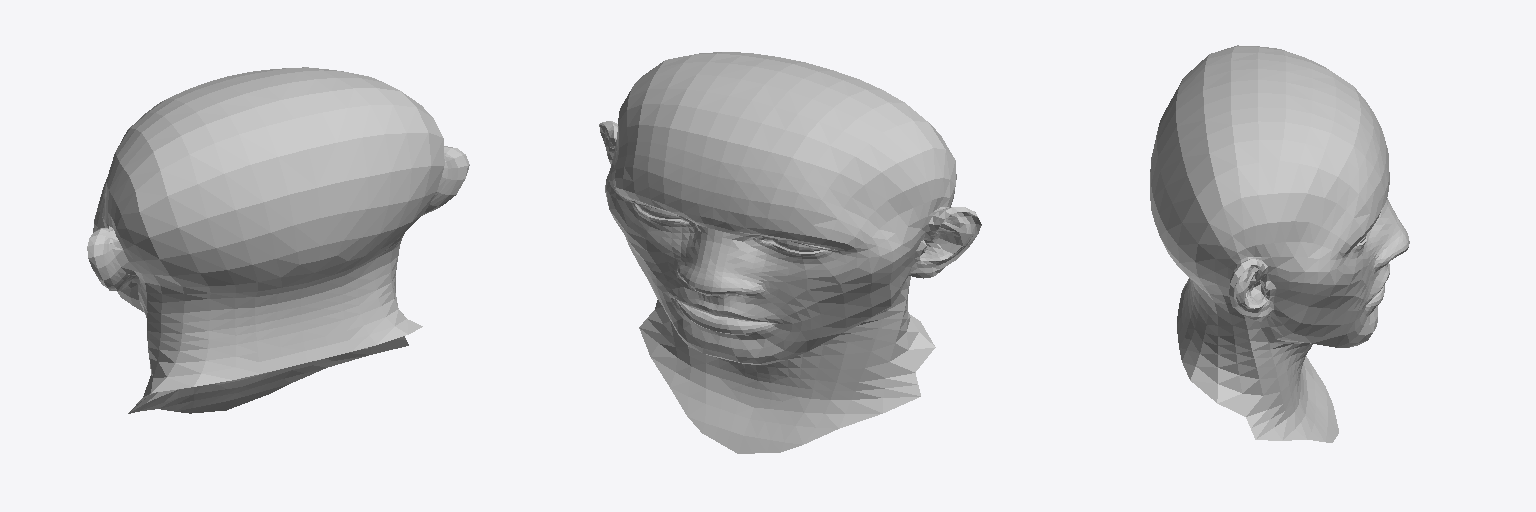
Rendered from xScale2.obj.
3 renders of one model, left to right at view 1: azimuth 30°, elevation 25°; view 2: azimuth 150°, elevation 25°; view 3: azimuth 270°, elevation 25°, orthographic.
Parts seen in each view (by area): view 1: mesh0; view 2: mesh0; view 3: mesh0.
Boxes of the visible parts, x1,y1,x2,y2 form: mesh0: [87, 67, 469, 413]; mesh0: [599, 52, 981, 453]; mesh0: [1150, 45, 1409, 442].
Size of the model in its own units: 36.25 by 32 by 21.32.